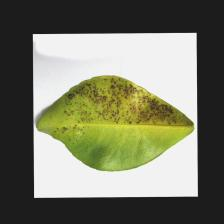canker: (84, 83, 156, 117)
